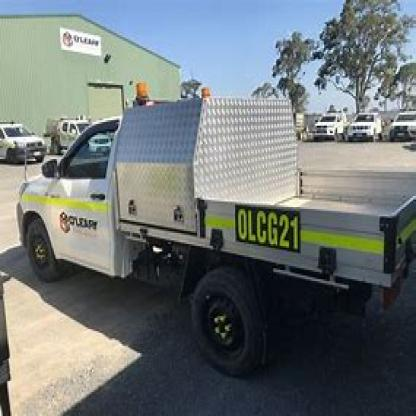light_vehicle: (18, 92, 414, 379)
